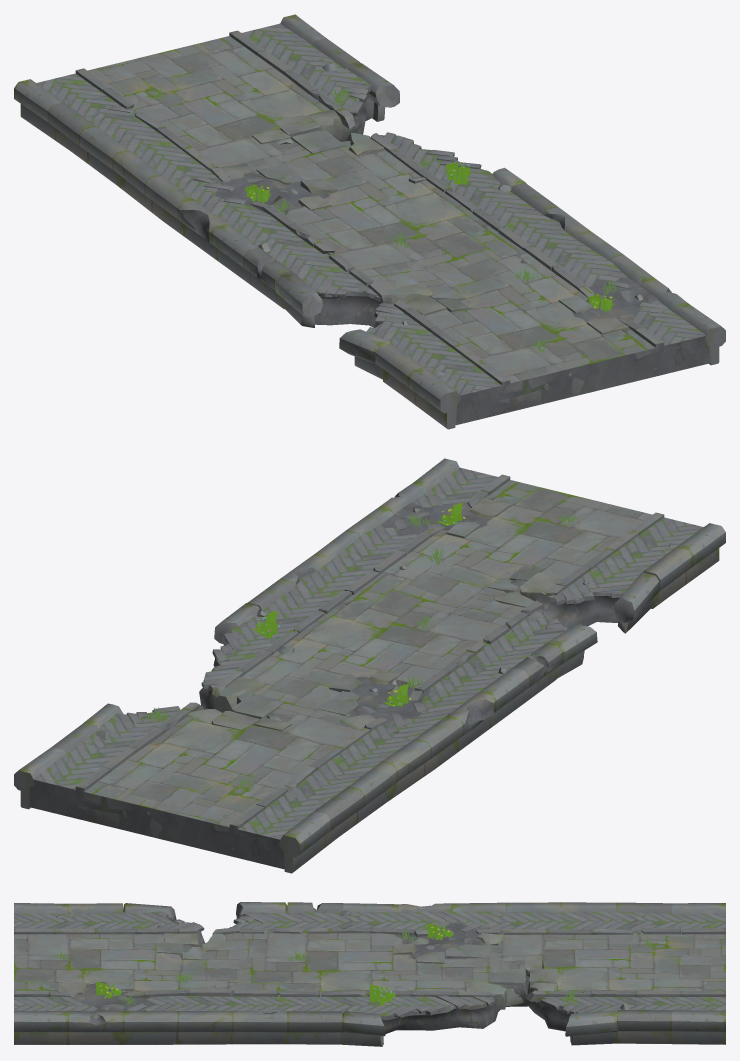
Rendered from Area_MdBuild_SdBridge22_Group.fbx.
The picture shows the model from 3 angles, top to bottom: view 1: azimuth 30°, elevation 25°; view 2: azimuth 150°, elevation 25°; view 3: azimuth 270°, elevation 25°; orthographic projection. The views are drawn at different scales.
Visible parts, largest first — view 1: Area_MdBuild_SdBridge22_Lod0; view 2: Area_MdBuild_SdBridge22_Lod0; view 3: Area_MdBuild_SdBridge22_Lod0, Stages_SGrass16_Vo, Stages_SGrass15_Vo (1), Stages_SGrass15_Vo.
Boxes of the visible parts, x1,y1,x2,y2 form: Area_MdBuild_SdBridge22_Lod0: (14, 14, 725, 429); Area_MdBuild_SdBridge22_Lod0: (14, 458, 725, 873); Area_MdBuild_SdBridge22_Lod0: (14, 902, 725, 1046); Stages_SGrass16_Vo: (370, 984, 395, 1005); Stages_SGrass15_Vo (1): (96, 981, 122, 999); Stages_SGrass15_Vo: (427, 923, 453, 940).
Size of the model in its own units: 10.77 by 1.95 by 27.
7 materials, 7 textured.
